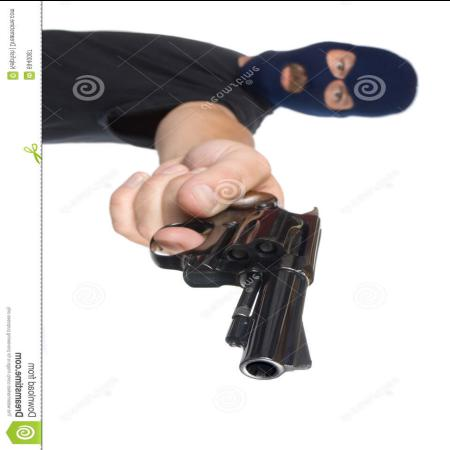Pistol: (152, 184, 332, 380)
